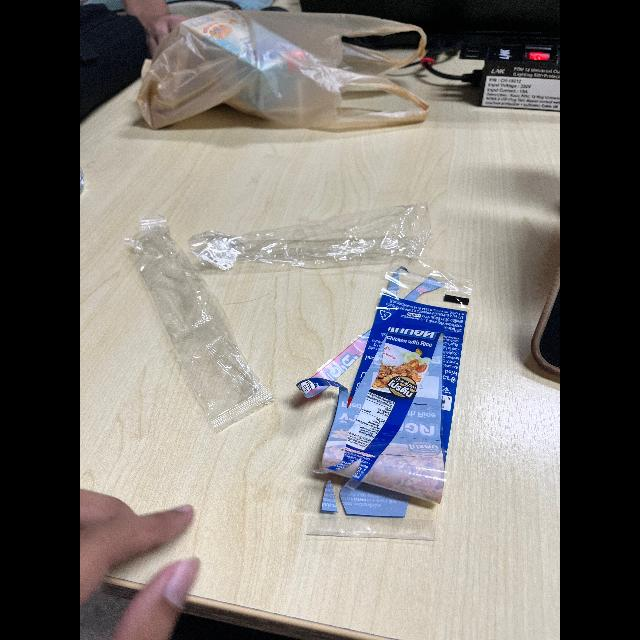scrap_plastic: (302, 254, 494, 560), (93, 215, 267, 422), (170, 190, 448, 284)
